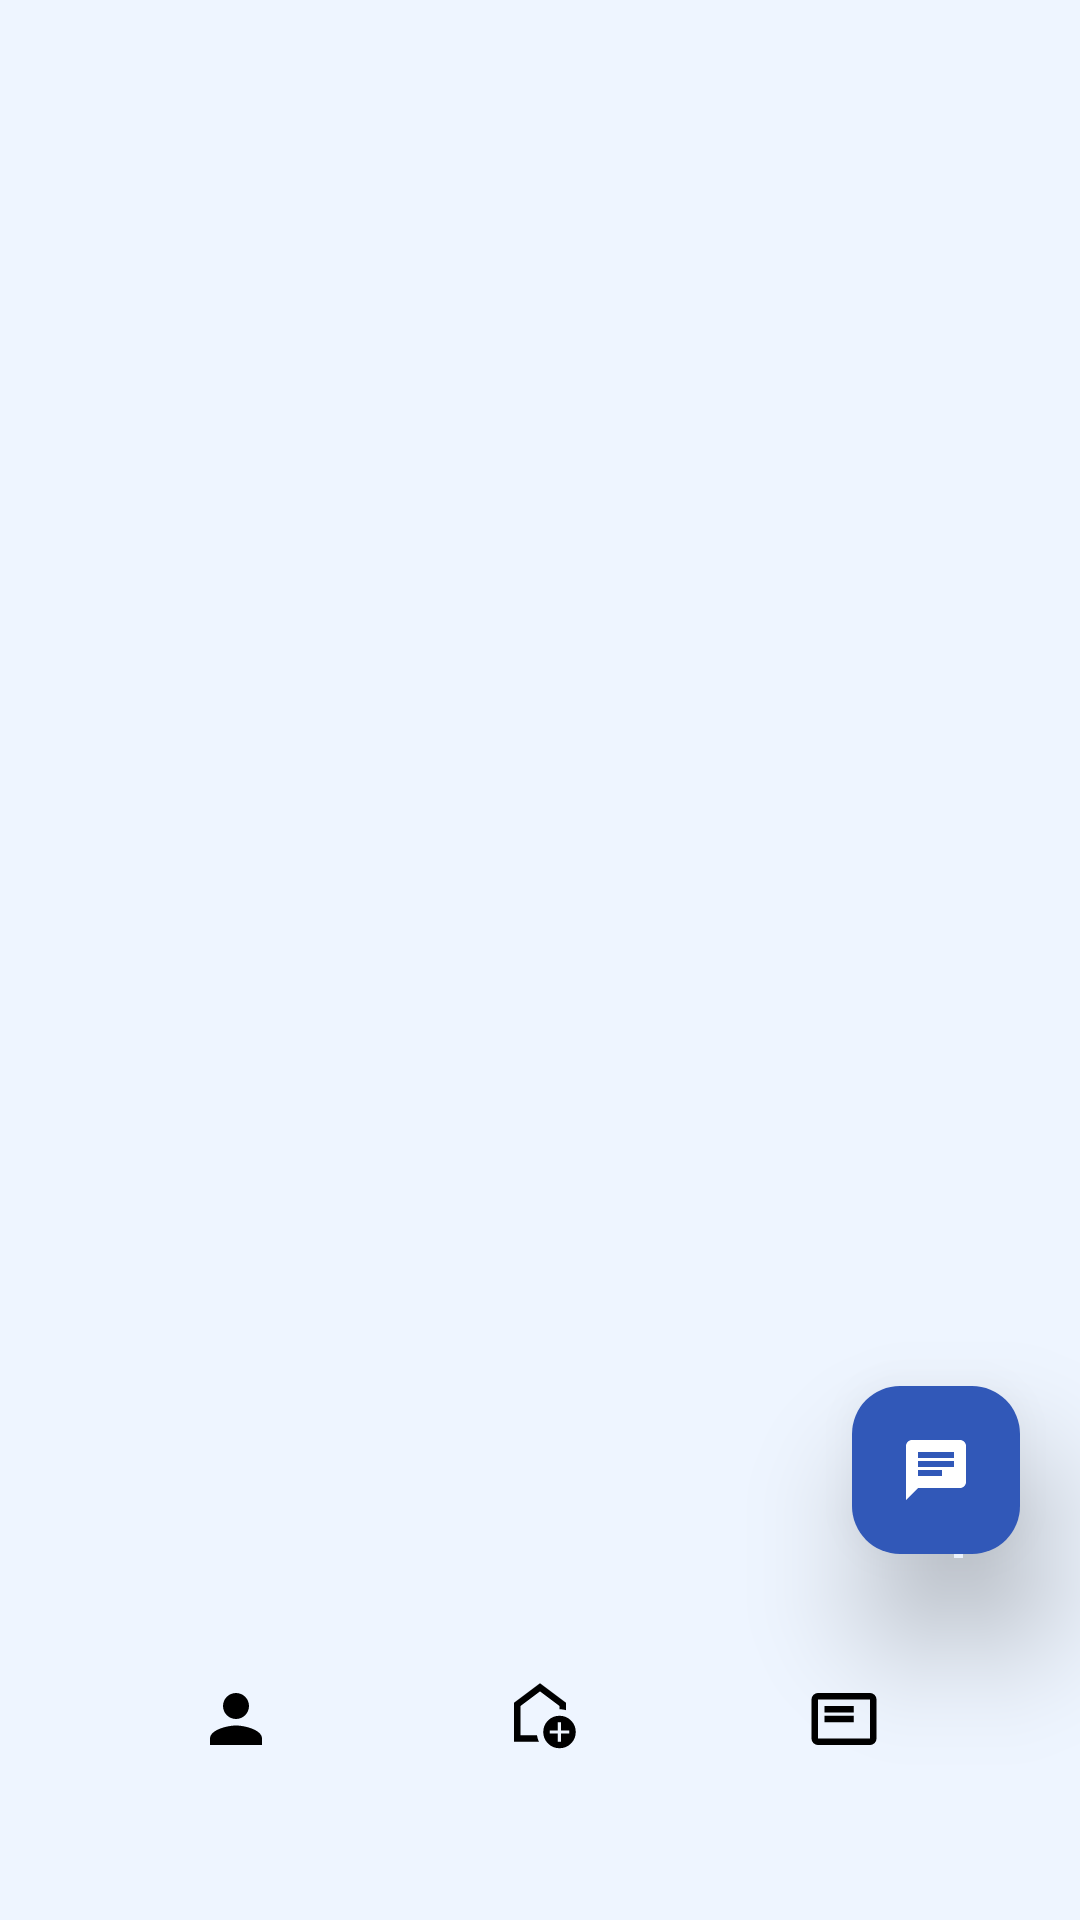

Screen size 1080*1920. Icon name, then its box in pixels as rect(x1, y1, x2, y2):
home: rect(514, 1683, 576, 1749)
Pembantu Maya Chatbot: rect(852, 1386, 1020, 1554)
person: rect(210, 1693, 262, 1745)
